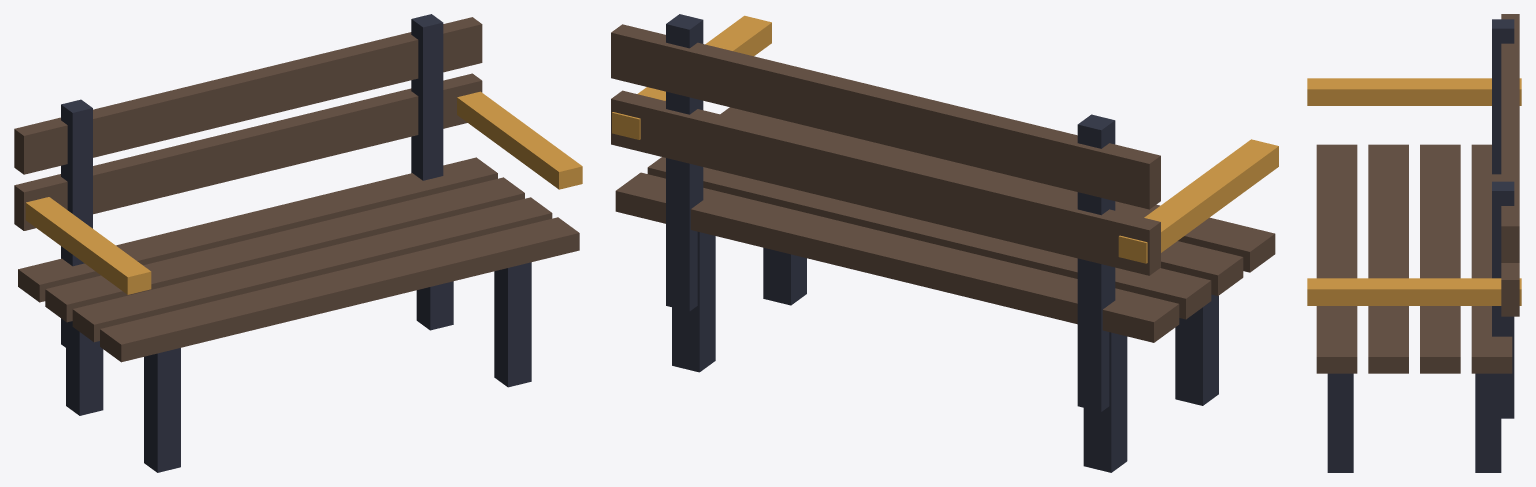
The model's file is furniture_bench.glb.
3 views of the same model, side by side, from view 1: azimuth 30°, elevation 25°; view 2: azimuth 150°, elevation 25°; view 3: azimuth 270°, elevation 25° (orthographic). The views are drawn at different scales.
Parts seen in each view (by area): view 1: furniture_bench wood, furniture_bench ink, furniture_bench ochre; view 2: furniture_bench wood, furniture_bench ink, furniture_bench ochre; view 3: furniture_bench wood, furniture_bench ochre, furniture_bench ink.
Boxes of the visible parts, box(x1,y1,x2,y2) form: furniture_bench wood: box(14, 17, 579, 362); furniture_bench ink: box(61, 14, 531, 472); furniture_bench ochre: box(25, 91, 582, 294); furniture_bench wood: box(611, 24, 1275, 342); furniture_bench ink: box(666, 14, 1218, 472); furniture_bench ochre: box(612, 15, 1278, 263); furniture_bench wood: box(1316, 14, 1519, 373); furniture_bench ochre: box(1307, 78, 1521, 305); furniture_bench ink: box(1327, 19, 1514, 472).
Bounding box in the file's own units: 0.68 × 0.42 × 0.29.
